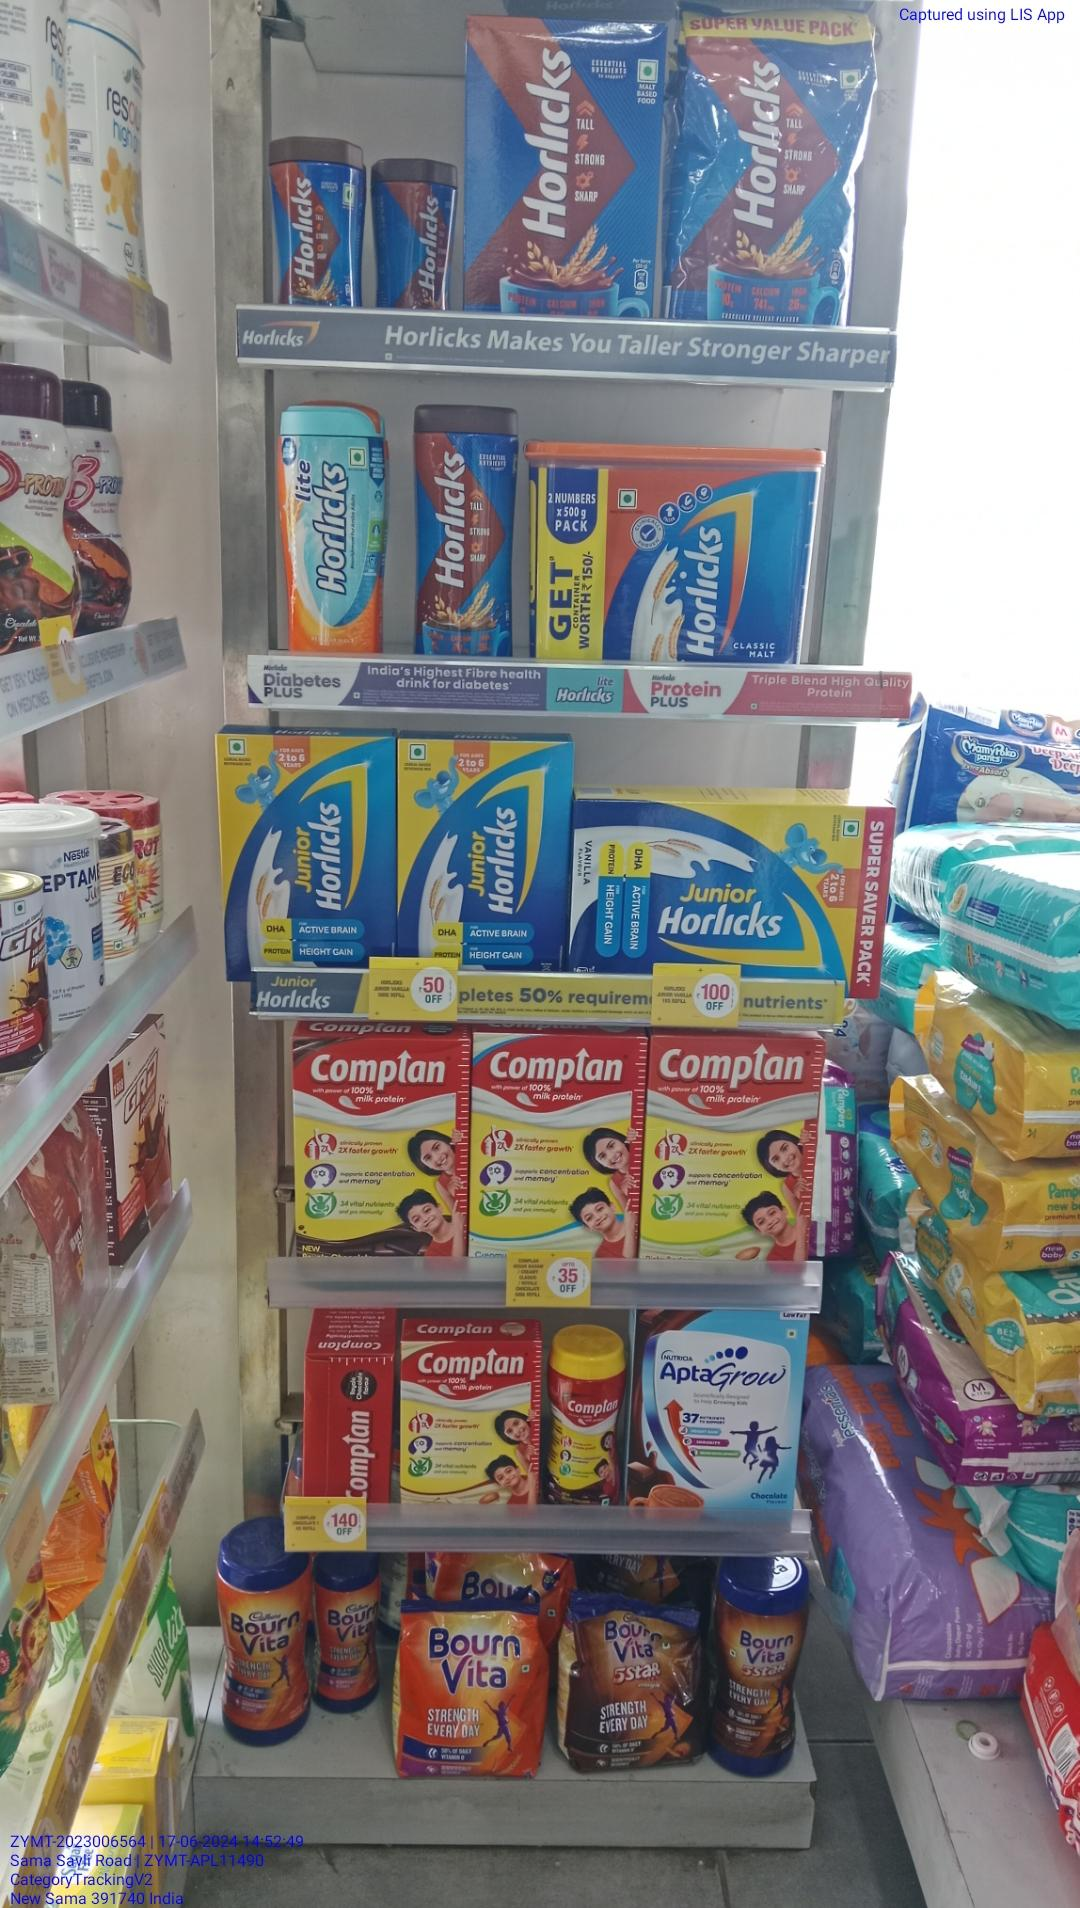BOURN_VITA_500_G_JAR: (218, 1555, 311, 1749)
BOURN_VITA_500_G_POUCH: (396, 1603, 547, 1784)
BOURN_VITA_FIVE_STAR_MAGIC_500_G_JAR: (713, 1567, 800, 1773)
BOURN_VITA_FIVE_STAR_MAGIC_500_G_POUCH: (568, 1591, 705, 1766)
COMPLAN_CHOCOLATE_500_GMS_JAR: (549, 1324, 623, 1510)
COMPLAN_CHOCOLATE_500_GMS_PACK: (294, 1039, 467, 1261)
COMPLAN_CREAMY_CLASSIC_500_G_PACK: (473, 1031, 641, 1251)
COMPLAN_KESAR_BADAM_500_GMS_PACK: (401, 1342, 536, 1506)
COMPLAN_PISTA_BADAM_500_GMS_PACK: (649, 1037, 822, 1265)
HORLICKS_LITE_REGULAR_MALT_500_GM_JAR: (280, 402, 389, 654)
HORLICK_CHOCOLATE_200_G_JAR: (273, 139, 364, 311), (370, 155, 456, 307)
HORLICK_CHOCOLATE_500_G_JAR: (412, 404, 515, 657)
HORLICK_CHOCOLATE_500_G_PACK: (465, 14, 657, 316)
HORLICK_CHOCOLATE_750_G_POUCH: (671, 4, 1051, 66)
HORLICK_MALT_1_KG_CONTAINER: (523, 442, 813, 663)
